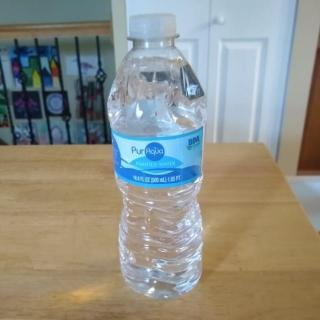Anorganik: (110, 11, 208, 306)
